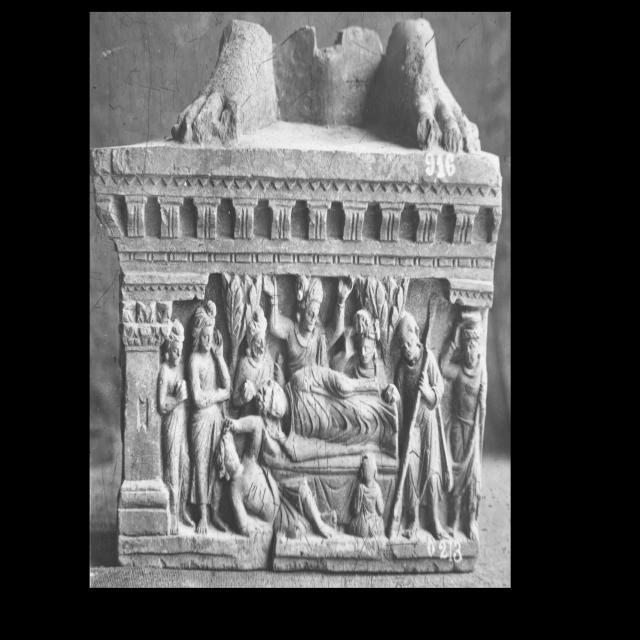buddha-sleeping: (250, 366, 404, 540)
